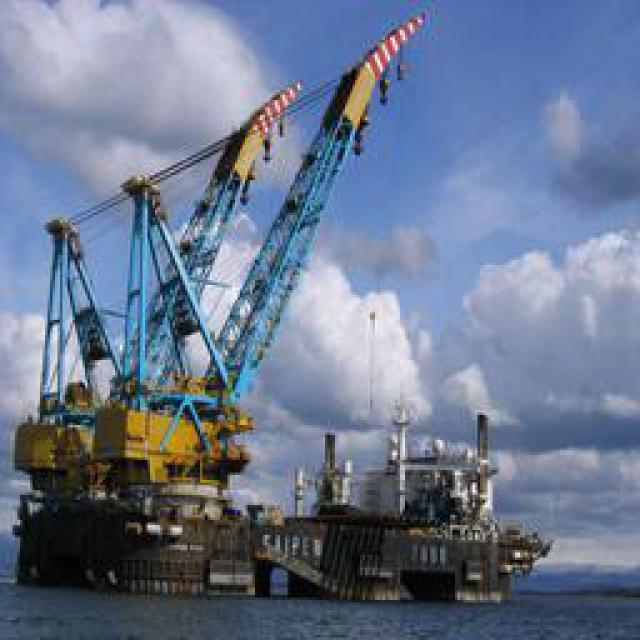Ship: (252, 410, 535, 608)
